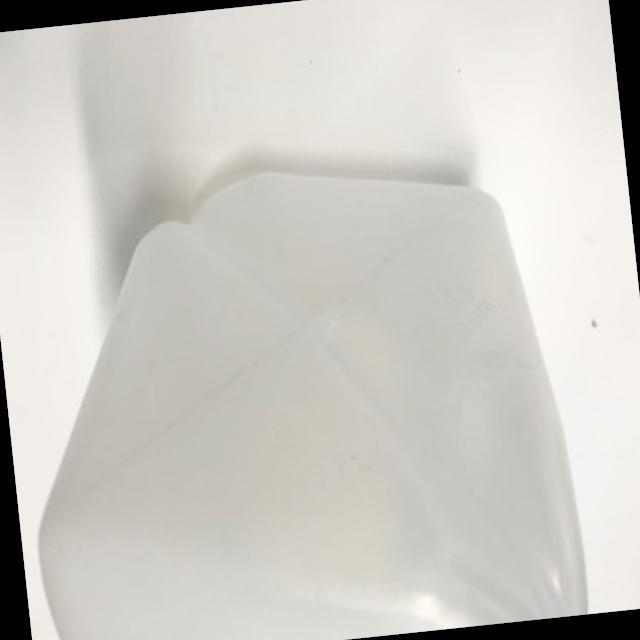HDPE Plastic: (32, 168, 590, 638)
